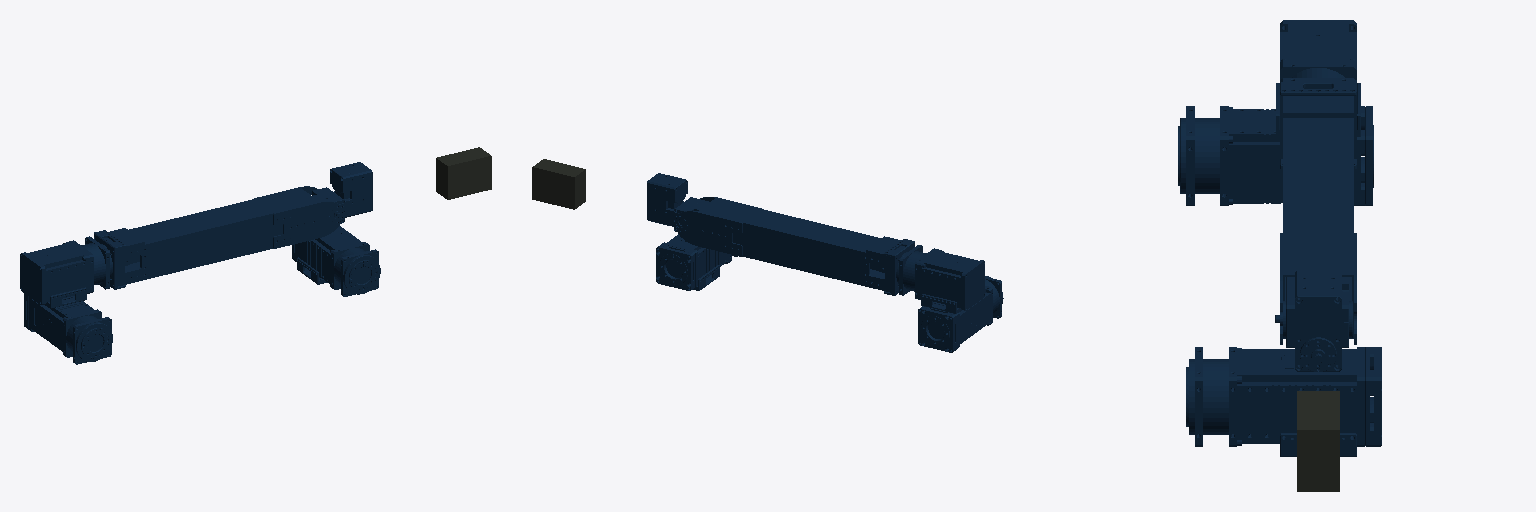
robot.urdf — imax_manipulator:
<?xml version="1.0" ?>
<!-- =================================================================================== -->
<!-- |    This document was autogenerated by xacro from imax_manipulator.xacro         | -->
<!-- |    EDITING THIS FILE BY HAND IS NOT RECOMMENDED                                 | -->
<!-- =================================================================================== -->
<robot name="imax_manipulator">
  <material name="aluminum">
    <color rgba="0.5 0.5 0.5 1"/>
  </material>
  <material name="plastic">
    <color rgba="0.1 0.1 0.1 1"/>
  </material>
  <material name="table_colors">
    <!-- <color rgba="0.121 0.192 0.203 1.0" /> -->
    <color rgba="0.1 0.2 0.3 1.0"/>
  </material>
  <material name="gear_colors">
    <color rgba="0.121 0.192 0.203 1.0"/>
  </material>
  <material name="link_colors">
    <color rgba="0.17 0.662 0.882 1.0"/>
  </material>
  <!--main body belt-->
  <!--LR: left or right-->
  <link name="main_body"/>
  <joint name="2table" type="fixed">
    <parent link="main_body"/>
    <child link="link_base"/>
    <origin rpy="0 0 0" xyz="0 0 0"/>
  </joint>
  <joint name="yaw_joint" type="revolute">
    <parent link="link_base"/>
    <child link="link_yaw"/>
    <limit effort="100" lower="-3.141592653589793" upper="3.141592653589793" velocity="1.5"/>
    <axis xyz="0 0 1"/>
    <origin rpy="0 0 0" xyz="0 0 0.033"/>
  </joint>
  <joint name="first_link_joint" type="revolute">
    <parent link="link_yaw"/>
    <child link="link_first_link"/>
    <axis xyz="0 1 0"/>
    <limit effort="100" lower="0" upper="3.141592653589793" velocity="1.5"/>
    <origin rpy="0 0 0" xyz="0 0 0.033"/>
  </joint>
  <joint name="second_link_joint" type="revolute">
    <parent link="link_first_link"/>
    <child link="link_second_link"/>
    <axis xyz="0 -1 0"/>
    <limit effort="100" lower="0" upper="3.141592653589793" velocity="1.5"/>
    <!-- <origin xyz="${-0.001*599} 0 ${0.0577}" rpy="0 0 0" /> -->
    <origin rpy="0 0 0" xyz="-0.4 0 0"/>
  </joint>
  <joint name="third_link_joint" type="revolute">
    <parent link="link_second_link"/>
    <child link="link3_roll"/>
    <axis xyz="1 0 0"/>
    <limit effort="100" lower="-2.9670597283903604" upper="2.9670597283903604" velocity="1.5"/>
    <origin rpy="0 0 0" xyz="0.069 0 0.06"/>
  </joint>
  <joint name="hand_pitch" type="revolute">
    <parent link="link3_roll"/>
    <child link="link_hand_pitch"/>
    <axis xyz="0 1 0"/>
    <limit effort="100" lower="-2.356194490192345" upper="2.356194490192345" velocity="1.5"/>
    <origin rpy="0 0 0" xyz="0.331 0 0"/>
  </joint>
  <joint name="hand_roll" type="revolute">
    <parent link="link_hand_pitch"/>
    <child link="link_hand_roll"/>
    <axis xyz="1 0 0"/>
    <limit effort="10" lower="-1.5707963267948966" upper="1.5707963267948966" velocity="0.5"/>
    <origin rpy="0 0 0" xyz="0.06225 0 0"/>
  </joint>
  <!-- <joint name="hand_roll" type="revolute">
      <parent link="link_hand_yaw" />
      <child link="link_hand_roll" />
      <axis xyz="1 0 0" />
      <limit effort="100" lower="${-pi}" upper="${pi}" velocity="0.5" />
      <origin xyz="${0.001*32.5} 0 ${-0.001*0.5}" rpy="0 0 0" />
    </joint> -->
  <link name="link_base">
    <inertial>
      <origin rpy="0 0 0" xyz="0 0 0"/>
      <mass value="0.5"/>
      <inertia ixx="0.001" ixy="0.0" ixz="0" iyy="0.001" iyz="0" izz="0.001"/>
    </inertial>
    <visual>
      <origin rpy="1.5707963267948966 0 0" xyz="0 0 0"/>
      <geometry>
        <mesh filename="package://nitro_description/meshes/man/STL/arm_base.stl" scale="0.001 0.001 0.001"/>
      </geometry>
      <material name="table_colors"/>
    </visual>
    <collision>
      <origin rpy="1.5707963267948966 0 0" xyz="0 0 0"/>
      <geometry>
        <mesh filename="package://nitro_description/meshes/man/STL/arm_base.stl" scale="0.001 0.001 0.001"/>
      </geometry>
    </collision>
  </link>
  <link name="link_yaw">
    <inertial>
      <origin rpy="0 0 0" xyz="0 0 0"/>
      <mass value="1.5"/>
      <inertia ixx="0.0666" ixy="0.0" ixz="0" iyy="0.0024166" iyz="0" izz="0.0024166"/>
    </inertial>
    <visual>
      <origin rpy="1.5707963267948966 0 1.5707963267948966" xyz="0 0 0"/>
      <geometry>
        <mesh filename="package://nitro_description/meshes/man/STL/yaw_link.stl" scale="0.001 0.001 0.001"/>
      </geometry>
      <material name="table_colors"/>
    </visual>
    <collision name="cylinder_collision">
      <geometry>
        <cylinder length="0.001" radius="0.01"/>
      </geometry>
    </collision>
  </link>
  <link name="link_first_link">
    <inertial>
      <origin rpy="0 0 0" xyz="-0.2 -0.025 0"/>
      <mass value="1.6"/>
      <inertia ixx="0.003213" ixy="0.0" ixz="0" iyy="0.0165" iyz="0" izz="0.019333"/>
    </inertial>
    <visual>
      <origin rpy="0 0 0" xyz="0 0 0"/>
      <geometry>
        <mesh filename="package://nitro_description/meshes/man/STL/link1_arm.stl" scale="0.001 0.001 0.001"/>
      </geometry>
      <material name="table_colors"/>
    </visual>
    <collision>
      <origin rpy="0 0 0" xyz="-0.2 -0.025 0"/>
      <geometry>
        <box size="0.35 0.15 0.04"/>
      </geometry>
    </collision>
  </link>
  <link name="link_second_link">
    <inertial>
      <origin rpy="0 0 0" xyz="0.0 -0.025 0.02"/>
      <mass value="1.3"/>
      <inertia ixx="0.00216" ixy="0.0" ixz="0" iyy="0.00147" iyz="0" izz="0.00147"/>
    </inertial>
    <visual>
      <origin rpy="1.5707963267948966 3.141592653589793 0" xyz="0 0 0"/>
      <geometry>
        <mesh filename="package://nitro_description/meshes/man/STL/arm_link3.stl" scale="0.001 0.001 0.001"/>
      </geometry>
      <material name="table_colors"/>
    </visual>
    <collision>
      <origin rpy="0 0 0" xyz="0.0 -0.025 0.02"/>
      <geometry>
        <box size="0.06 0.1 0.1"/>
      </geometry>
    </collision>
  </link>
  <link name="link3_roll">
    <inertial>
      <origin rpy="0 0 0" xyz="0.15 0 0"/>
      <mass value="0.6"/>
      <inertia ixx="0.00025" ixy="0.0" ixz="0" iyy="0.00325" iyz="0" izz="0.00325"/>
    </inertial>
    <visual>
      <origin rpy="1.5707963267948966 3.141592653589793 -1.5707963267948966" xyz="0 0 0"/>
      <geometry>
        <mesh filename="package://nitro_description/meshes/man/STL/roll1link.stl" scale="0.001 0.001 0.001"/>
      </geometry>
      <material name="table_colors"/>
    </visual>
    <collision>
      <origin rpy="0 0 0" xyz="0.15 0 0"/>
      <geometry>
        <box size="0.25 0.05 0.05"/>
      </geometry>
    </collision>
  </link>
  <link name="link_hand_pitch">
    <inertial>
      <origin rpy="0 0 0" xyz="0 0 0"/>
      <mass value="0.2"/>
      <inertia ixx="0.00014" ixy="0.0" ixz="0" iyy="0.00029" iyz="0" izz="0.00016"/>
    </inertial>
    <visual>
      <origin rpy="-1.5707963267948966 3.141592653589793 1.5707963267948966" xyz=" 0 0 0"/>
      <geometry>
        <mesh filename="package://nitro_description/meshes/man/STL/pitch.stl" scale="0.001 0.001 0.001"/>
      </geometry>
      <material name="table_colors"/>
    </visual>
    <collision>
      <origin rpy="0 0 0" xyz="0 0 0"/>
      <geometry>
        <box size="0.08 0.03 0.02"/>
      </geometry>
    </collision>
  </link>
  <link name="link_hand_roll">
    <inertial>
      <origin rpy="0 0 0" xyz="0.03 0 0"/>
      <mass value="0.2"/>
      <inertia ixx="0.0001" ixy="0.0" ixz="0" iyy="0.0001" iyz="0" izz="0.0001"/>
    </inertial>
    <visual>
      <geometry>
        <mesh filename="package://nitro_description/meshes/man/STL/end_roll_full.stl" scale="0.001 0.001 0.001"/>
      </geometry>
      <origin rpy="0 0 0" xyz="0 0 0"/>
      <material name="table_colors"/>
    </visual>
    <collision>
      <origin rpy="0 0 0" xyz="0.03 0 0"/>
      <geometry>
        <box size="0.05 0.1 0.05"/>
      </geometry>
    </collision>
  </link>
  <!-- <link name="link_hand_">
      <inertial>
        <origin xyz="0.025 0 0" rpy="0 0 0"/>
        <mass value="0.8"/>
        <inertia ixx="0.00052" iyy="0.00104" izz="0.00108" ixy="0.0" iyz="0" ixz="0"/>        
      </inertial>
      <visual>
        <geometry>
          <mesh filename="package://nitro_description/meshes/man/STL/.stl"
            scale="0.001 0.001 0.001"/>
        </geometry>
      </visual>
      <collision>
        <origin xyz="0.05 0 0" rpy="0 0 0"/>
        <geometry>
        </geometry>
      </collision>
    </link> -->

  <material name="hands_colors">
    <color rgba="0.2 0.211 0.192 1.0"/>
  </material>
  <!-- Base Link -->
  <link name="gripper_center"/>
  <joint name="gripper_joint" type="fixed">
    <parent link="link_hand_roll"/>
    <child link="gripper_center"/>
    <origin rpy="0 0 0" xyz="0.14 0 0"/>
    <!-- 基準位置 -->
    <axis xyz="1 0 0"/>
    <!-- x軸に沿ってスライド -->
    <limit effort="10.0" lower="0" upper="0.05" velocity="0.1"/>
    <!-- 指のスライド範囲と制限 -->
  </joint>
  <!-- Left Finger Link -->
  <link name="left_finger">
    <inertial>
      <origin rpy="0 0 0" xyz="0 0 0"/>
      <mass value="0.1"/>
      <inertia ixx="0.0001" ixy="0.0" ixz="0" iyy="0.0001" iyz="0" izz="0.0001"/>
    </inertial>
    <visual>
      <geometry>
        <box size="0.065 0.015 0.048"/>
        <!-- 左側のフィンガー -->
      </geometry>
      <material name="hands_colors"/>
    </visual>
    <collision>
      <geometry>
        <box size="0.065 0.015 0.048"/>
        <!-- 右側のフィンガー -->
      </geometry>
    </collision>
  </link>
  <!-- Right Finger Link -->
  <link name="right_finger">
    <inertial>
      <origin rpy="0 0 0" xyz="0 0 0"/>
      <mass value="0.1"/>
      <inertia ixx="0.0001" ixy="0.0" ixz="0" iyy="0.0001" iyz="0" izz="0.0001"/>
    </inertial>
    <visual>
      <geometry>
        <box size="0.065 0.015 0.048"/>
        <!-- 右側のフィンガー -->
      </geometry>
      <material name="hands_colors"/>
    </visual>
    <collision>
      <geometry>
        <box size="0.065 0.015 0.048"/>
        <!-- 右側のフィンガー -->
      </geometry>
    </collision>
  </link>
  <!-- Joint for Left Finger -->
  <joint name="left_finger_joint" type="prismatic">
    <parent link="gripper_center"/>
    <child link="left_finger"/>
    <origin rpy="0 0 0" xyz="0 0.0075 0"/>
    <!-- 基準位置 -->
    <axis xyz="0 1 0"/>
    <!-- x軸に沿ってスライド -->
    <limit effort="10.0" lower="0" upper="0.05" velocity="0.1"/>
    <!-- 指のスライド範囲と制限 -->
  </joint>
  <!-- Joint for Right Finger -->
  <joint name="right_finger_joint" type="prismatic">
    <parent link="gripper_center"/>
    <child link="right_finger"/>
    <origin rpy="0 0 0" xyz="0 -0.0075 0"/>
    <!-- 基準位置 -->
    <axis xyz="0 -1 0"/>
    <!-- x軸の反対方向にスライド -->
    <limit effort="10.0" lower="0" upper="0.05" velocity="0.1"/>
    <!-- 指のスライド範囲と制限 -->
  </joint>
  <!-- ROS Control for Left Finger -->

  <!-- <xacro:sensor_d435 parent="link_second_link" name="d435/camera" use_nominal_extrinsics="true">
      <origin xyz="${0.01*18} 0 ${0.01*5}" rpy="0 0 0" />-->
  <!-- <xacro:sensor_d435 parent="link_hand_roll" name="camera" use_nominal_extrinsics="true">
    <origin xyz="${0.001*17.15} 0 ${0.001*27.85}" rpy="0 0 0" />
  </xacro:sensor_d435> -->
</robot>

--- What the picture shows (computed from the rendered views, not written in the file) ---
3 views of the same robot in one strip: view 1: azimuth 30°, elevation 25°; view 2: azimuth 150°, elevation 25°; view 3: azimuth 270°, elevation 25° (orthographic).
Model imax_manipulator with 11 links and 10 joints (6 revolute, 2 prismatic, 2 fixed), rooted at main_body, posed every joint at zero.
Links seen in each view (by area): view 1: link3_roll, link_second_link, link_yaw, link_hand_pitch, right_finger; view 2: link3_roll, link_second_link, link_yaw, link_hand_pitch, left_finger; view 3: link_second_link, link_yaw, link3_roll, link_hand_pitch, left_finger, right_finger.
Boxes of the visible links, <box> form: link3_roll: <box>94,186,339,289</box>; link_second_link: <box>20,236,112,364</box>; link_yaw: <box>292,226,380,296</box>; link_hand_pitch: <box>312,162,372,223</box>; right_finger: <box>442,151,491,199</box>; link3_roll: <box>678,197,914,295</box>; link_second_link: <box>896,245,1003,352</box>; link_yaw: <box>656,234,737,290</box>; link_hand_pitch: <box>647,173,709,231</box>; left_finger: <box>532,163,579,209</box>; link_second_link: <box>1178,20,1373,205</box>; link_yaw: <box>1186,347,1381,456</box>; link3_roll: <box>1280,82,1356,344</box>; link_hand_pitch: <box>1275,270,1352,371</box>; left_finger: <box>1318,391,1339,491</box>; right_finger: <box>1297,391,1317,491</box>.
Bounding box of the posed robot: 0.6738 × 0.144 × 0.1377 m (x, y, z).
Meshes: 7 distinct files referenced, 4 mesh visuals loaded (4 binary STL); not drawn: 3 (reference not matched to a file when rendering).
